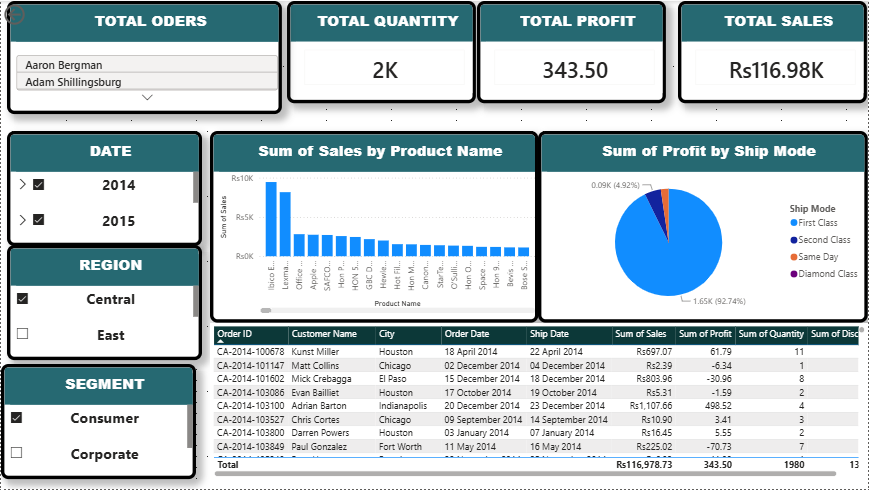

The dashboard page shown, as its layout file describes it:
{"tool":"powerbi","page":{"name":"Details Coumster Anaylsis","canvas":[1280,720],"ordinal":6},"visuals":[{"type":"cardVisual","title":"TOTAL QUANTITY","fields":{"Data":["Sum(Orders.Quantity)"]},"box":[422.7,0,279.4,150.9],"z":0},{"type":"cardVisual","title":"TOTAL PROFIT","fields":{"Data":["Sum(Orders.Profit)"]},"box":[702.3,0,279.4,150.9],"z":1000},{"type":"cardVisual","title":"TOTAL SALES","fields":{"Data":["Sum(Orders.Sales)"]},"box":[1000.6,0,279.4,150.9],"z":2000},{"type":"listSlicer","title":"DATE","fields":{"Values":["Orders.Order Date.Variation.Date Hierarchy.Year","Orders.Order Date.Variation.Date Hierarchy.Quarter","Orders.Order Date.Variation.Date Hierarchy.Month","Orders.Order Date.Variation.Date Hierarchy.Day"]},"box":[8.4,192,288,169.7],"z":3000},{"type":"listSlicer","title":"REGION","fields":{"Values":["Orders.Region"]},"box":[8.4,360.4,288,169.7],"z":4000},{"type":"listSlicer","title":"SEGMENT","fields":{"Values":["Orders.Segment"]},"box":[0,536.6,288,169.7],"z":5000},{"type":"cardVisual","title":"TOTAL ODERS","fields":{"Rows":["Orders.Customer Name"]},"box":[8.4,0,405.9,166.7],"z":6000},{"type":"columnChart","fields":{"Category":["Orders.Product Name"],"Y":["Sum(Orders.Sales)"]},"box":[308.2,192,485.1,282.9],"z":7000},{"type":"pieChart","fields":{"Category":["Orders.Ship Mode"],"Y":["Sum(Orders.Profit)"]},"box":[793.3,192,486.7,282.9],"z":8000},{"type":"tableEx","fields":{"Values":["Orders.Order ID","Orders.Customer Name","Orders.City","Orders.Order Date","Orders.Ship Date","Sum(Orders.Sales)","Sum(Orders.Profit)","Sum(Orders.Quantity)","Sum(Orders.Discount)"]},"box":[308.2,474.9,971.8,232.4],"z":9000},{"type":"actionButton","box":[0,0,100,40],"z":10000}]}

Visuals, with their boxes in screenshot pixels (x1, y1, x2, y2), scaled from the page's 1280x720 canvas onto the 869x490 screenshot:
"TOTAL QUANTITY" cardVisual: 287 0 477 103
"TOTAL PROFIT" cardVisual: 477 0 666 103
"TOTAL SALES" cardVisual: 679 0 868 103
"DATE" listSlicer: 6 131 201 246
"REGION" listSlicer: 6 245 201 361
"SEGMENT" listSlicer: 0 365 196 481
"TOTAL ODERS" cardVisual: 6 0 281 113
columnChart - Orders.Product Name x Sum(Orders.Sales): 209 131 539 323
pieChart - Orders.Ship Mode x Sum(Orders.Profit): 539 131 868 323
tableEx - Orders.Order ID x Orders.Customer Name: 209 323 868 481
actionButton: 0 0 68 27
